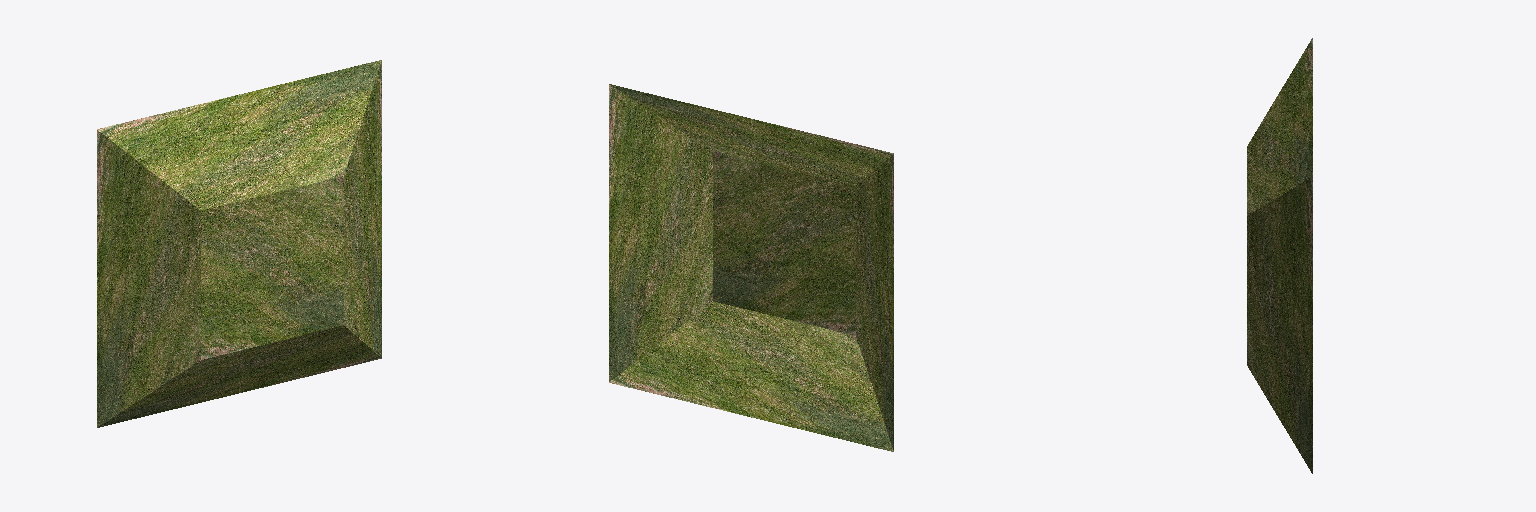
3 renders of one model, left to right at view 1: azimuth 30°, elevation 25°; view 2: azimuth 150°, elevation 25°; view 3: azimuth 270°, elevation 25°, orthographic.
Parts seen in each view (by area): view 1: terre_eleve; view 2: terre_eleve; view 3: terre_eleve.
Part boxes in pixels (x1,y1,x2,y2): terre_eleve: (97,60,381,427); terre_eleve: (609,84,893,451); terre_eleve: (1247,38,1312,473).
Bounding box in the file's own units: 2000 × 2000 × 400.
Materials: 1 (1 with a texture image).